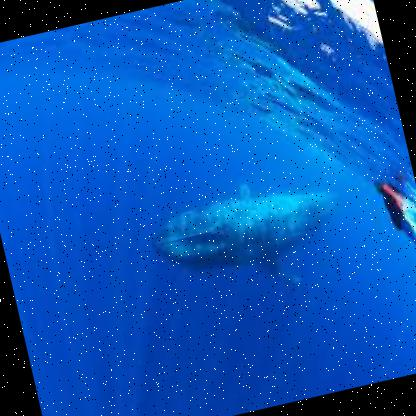blue_whale: (134, 140, 386, 370)
